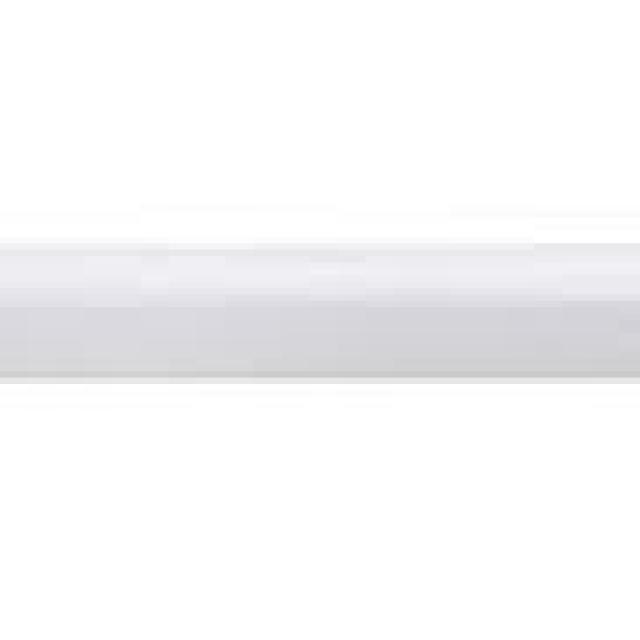tubelight_off: (0, 230, 640, 394)
